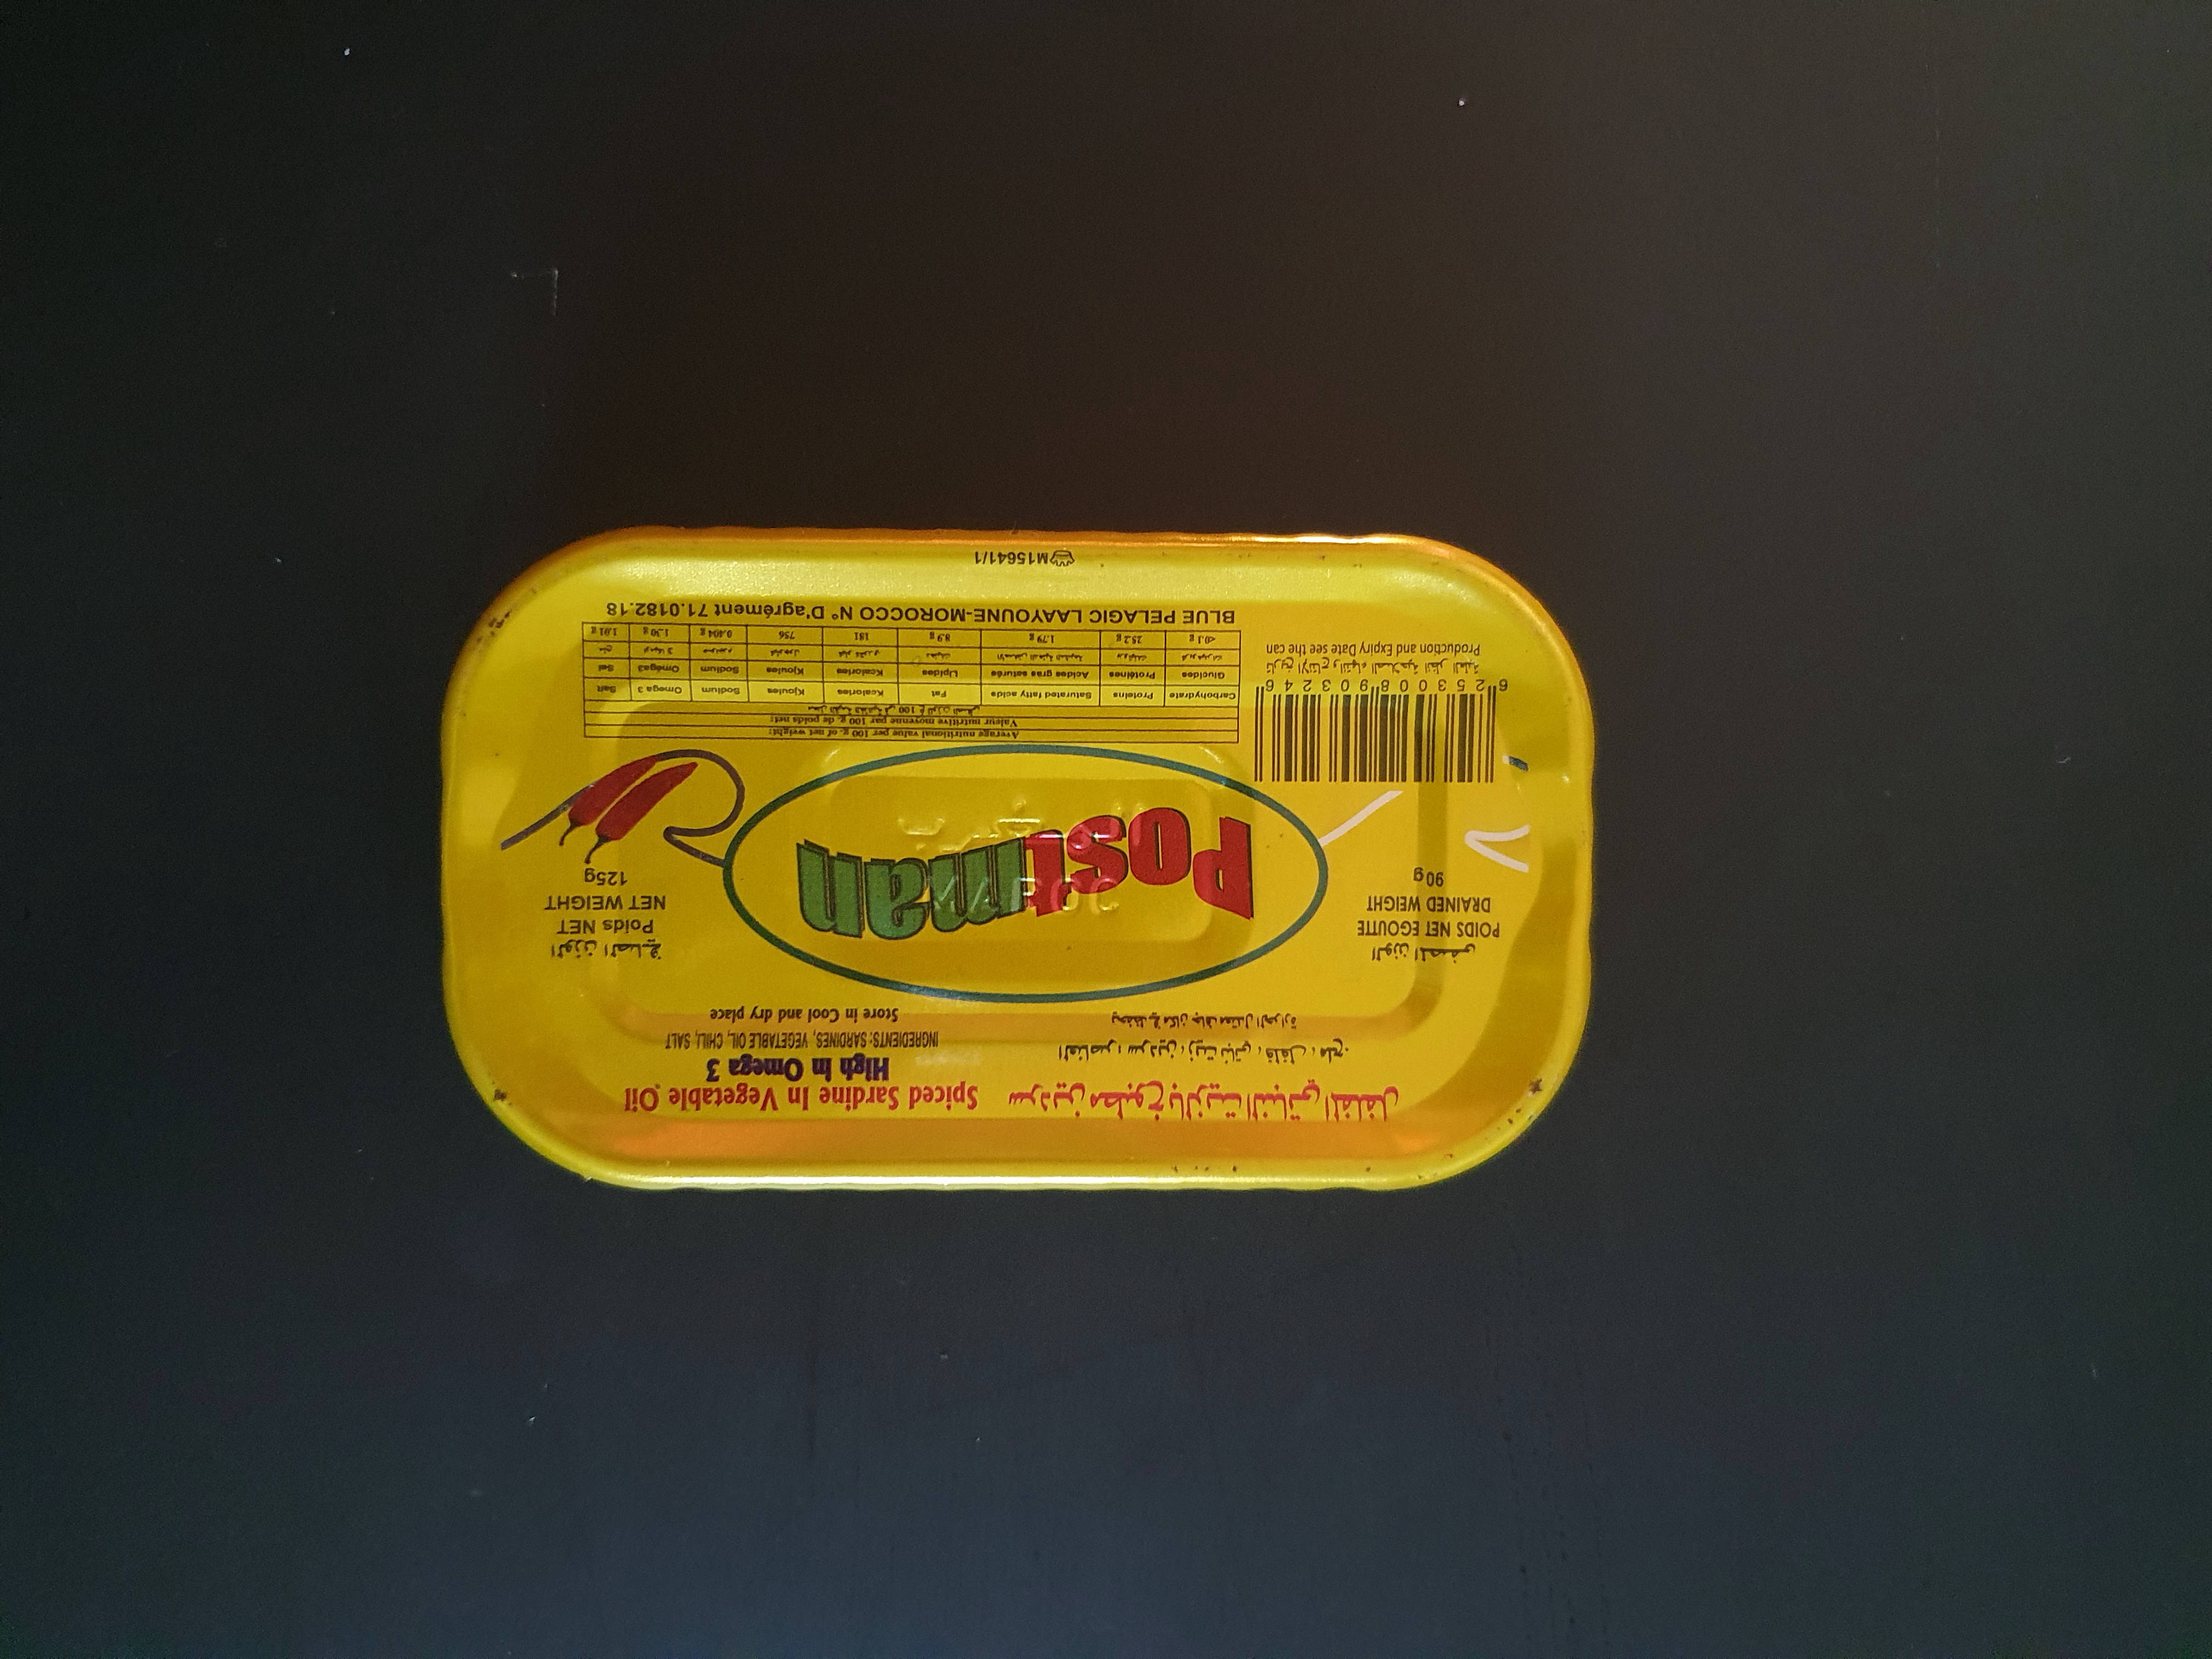metal: (373, 437, 1681, 1258)
